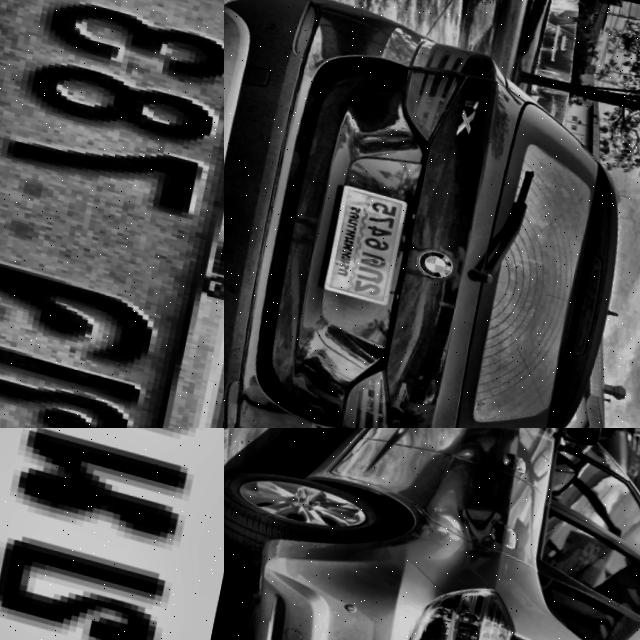license-plate: (0, 0, 224, 428), (0, 428, 224, 640), (320, 174, 412, 302)
